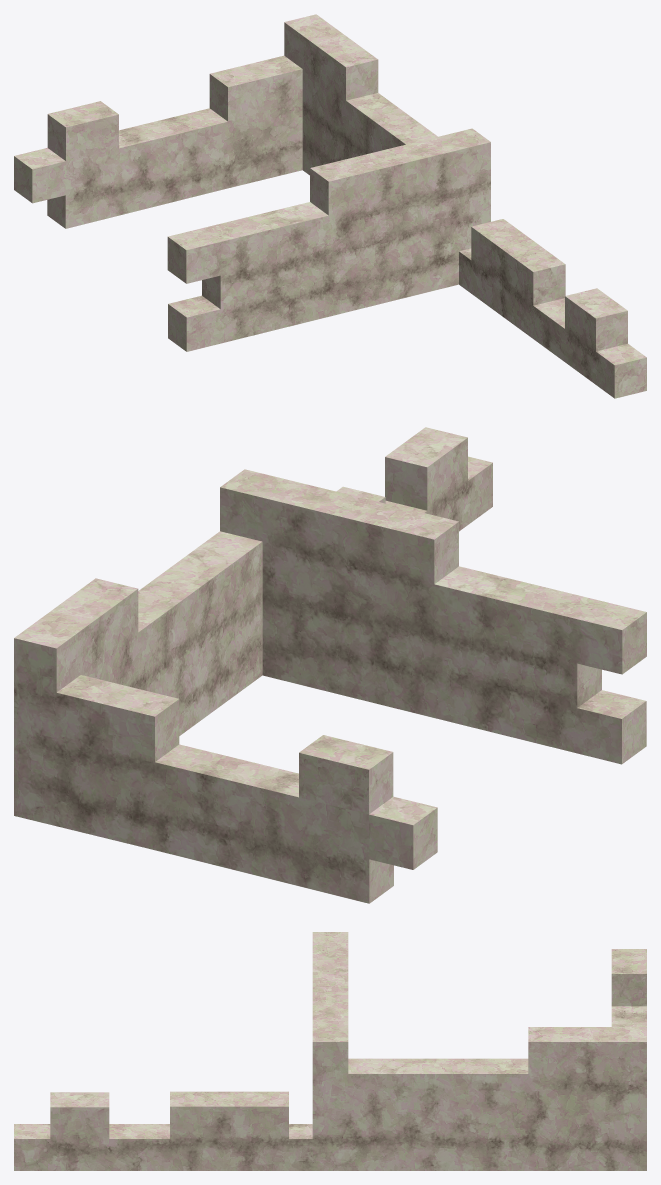
File: sciana_1.obj
The picture shows the model from 3 angles, top to bottom: view 1: azimuth 30°, elevation 25°; view 2: azimuth 150°, elevation 25°; view 3: azimuth 270°, elevation 25°; orthographic projection. The views are drawn at different scales.
Visible parts, largest first — view 1: lowpoly2; view 2: lowpoly2; view 3: lowpoly2.
Part boxes in pixels (left/top/right/bottom): lowpoly2: left=14, top=14, right=646, bottom=398; lowpoly2: left=14, top=427, right=646, bottom=903; lowpoly2: left=14, top=932, right=646, bottom=1170.
Size of the model in its own units: 39.86 by 16.96 by 74.93.
1 material, 1 textured.
